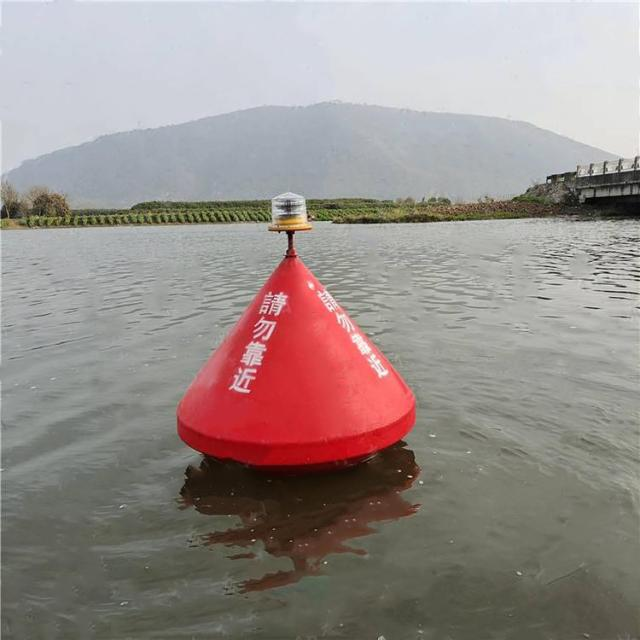buoy: (170, 188, 411, 468)
